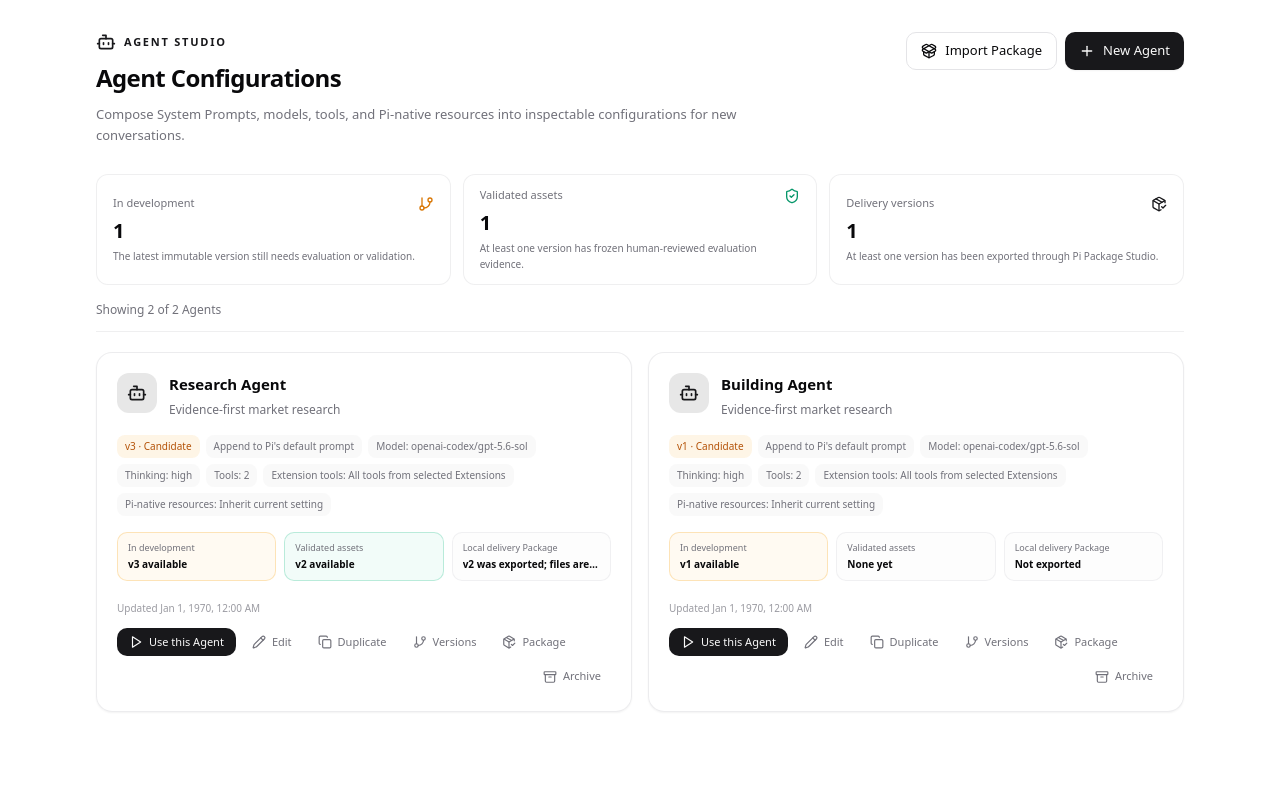
Test: AgentProfilesPage › shows overlapping lifecycle evidence and filters delivered Agent assets
Expected: the heading "Research Agent" is shown, [169, 373, 286, 396]
Expected: the text "v2 was exported; files are missing" is shown, [463, 557, 600, 572]
Click the button "Delivery versions" at (890, 203), box [829, 174, 1184, 285]
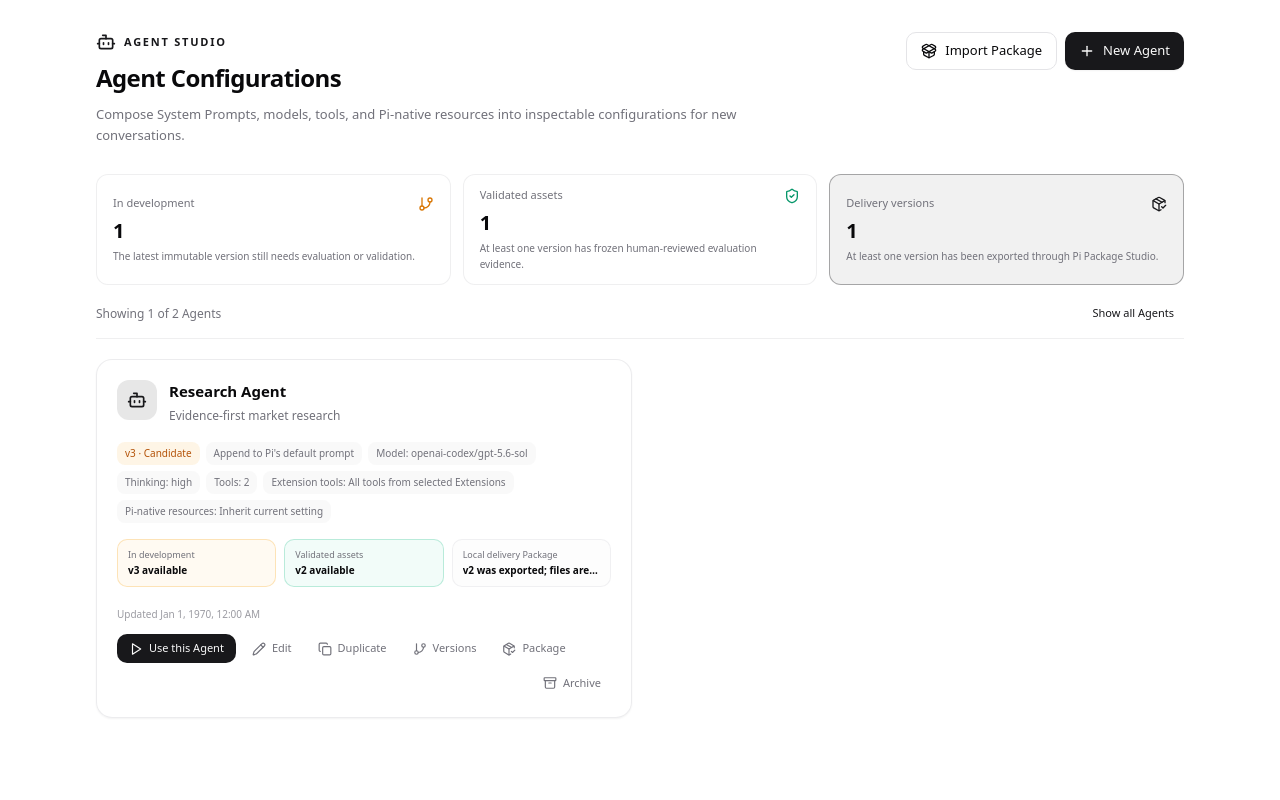
Expected: the heading "Research Agent" is shown, [169, 380, 286, 402]
Now the button "Building Agent" is gone
Now the text "Showing 1 of 2 Agents" is shown, box [96, 304, 221, 322]
